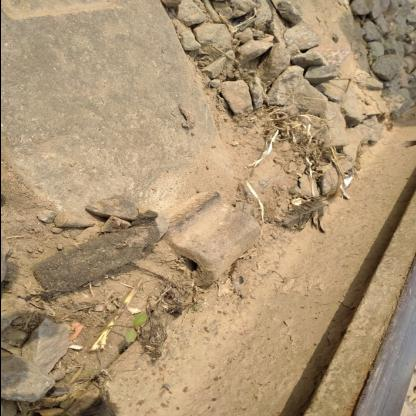Defective 1: (128, 176, 284, 300)
